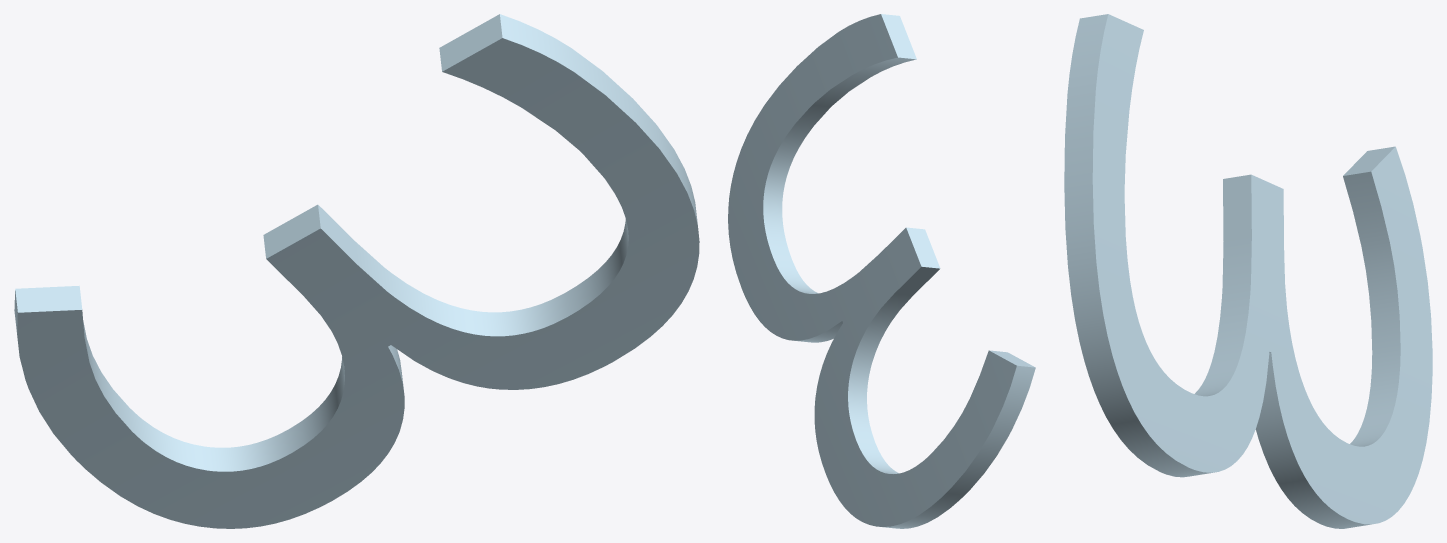
Rendered from Number_3.gltf.
3 views of the same model, side by side, from view 1: azimuth 30°, elevation 25°; view 2: azimuth 150°, elevation 25°; view 3: azimuth 270°, elevation 25° (orthographic). The views are drawn at different scales.
Parts seen in each view (by area): view 1: Sub_7_Cell_1_1_Number_3; view 2: Sub_7_Cell_1_1_Number_3; view 3: Sub_7_Cell_1_1_Number_3.
Part boxes in pixels (x1,y1,x2,y2): Sub_7_Cell_1_1_Number_3: (14,14,699,528); Sub_7_Cell_1_1_Number_3: (728,14,1035,528); Sub_7_Cell_1_1_Number_3: (1064,14,1432,528).
Size of the model in its own units: 0.0236 by 0.0238 by 0.014.
